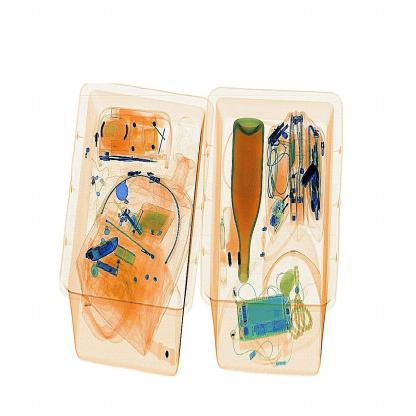scissors: (298, 157, 324, 201)
